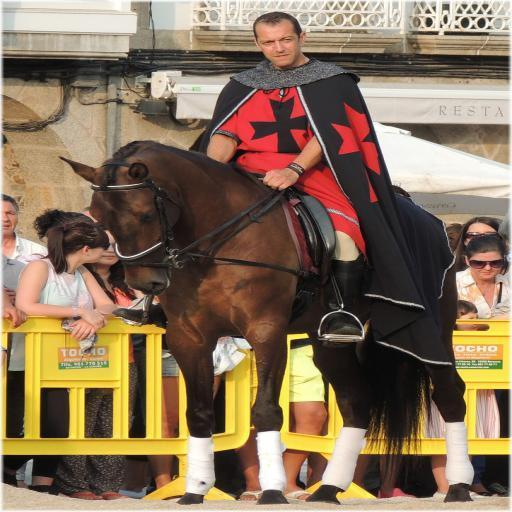horse: (56, 140, 474, 504)
